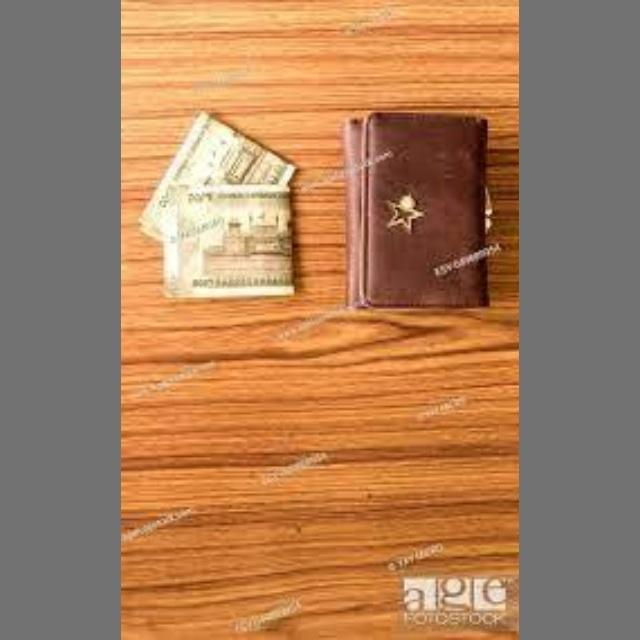Wallet: (335, 101, 517, 323)
